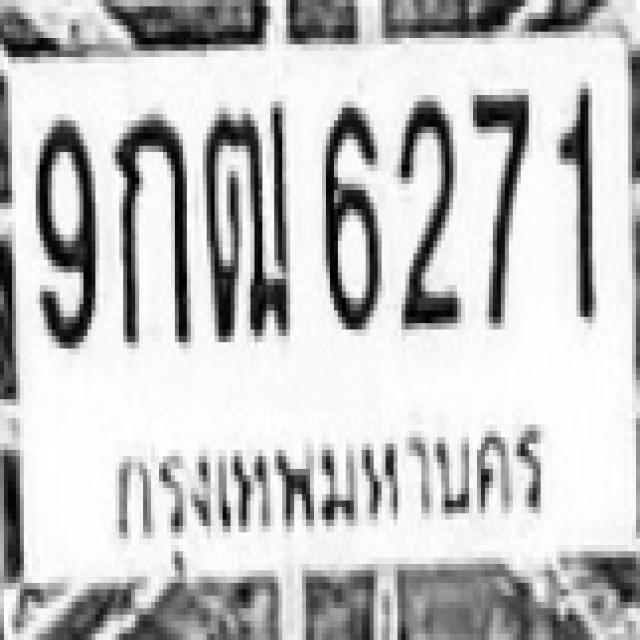1: (552, 82, 592, 317)
10GorGai: (111, 108, 187, 342)
2: (394, 95, 457, 323)
27ThorPhuThao: (201, 95, 288, 336)
6: (318, 98, 378, 326)
7: (471, 89, 527, 323)
9: (32, 114, 91, 342)
Bangkok: (97, 411, 557, 580)
